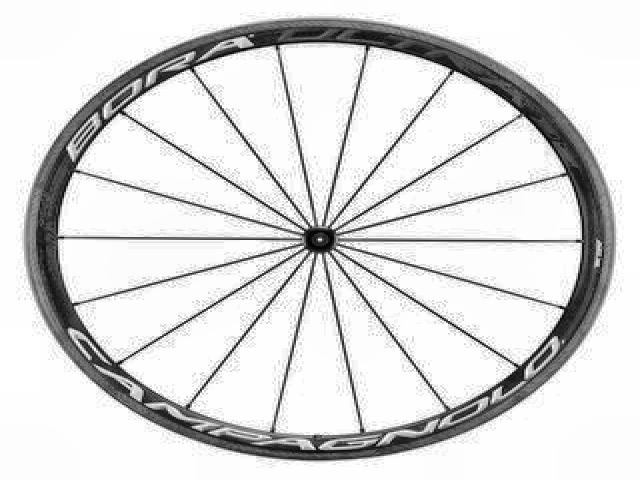wheel: (16, 12, 619, 463)
